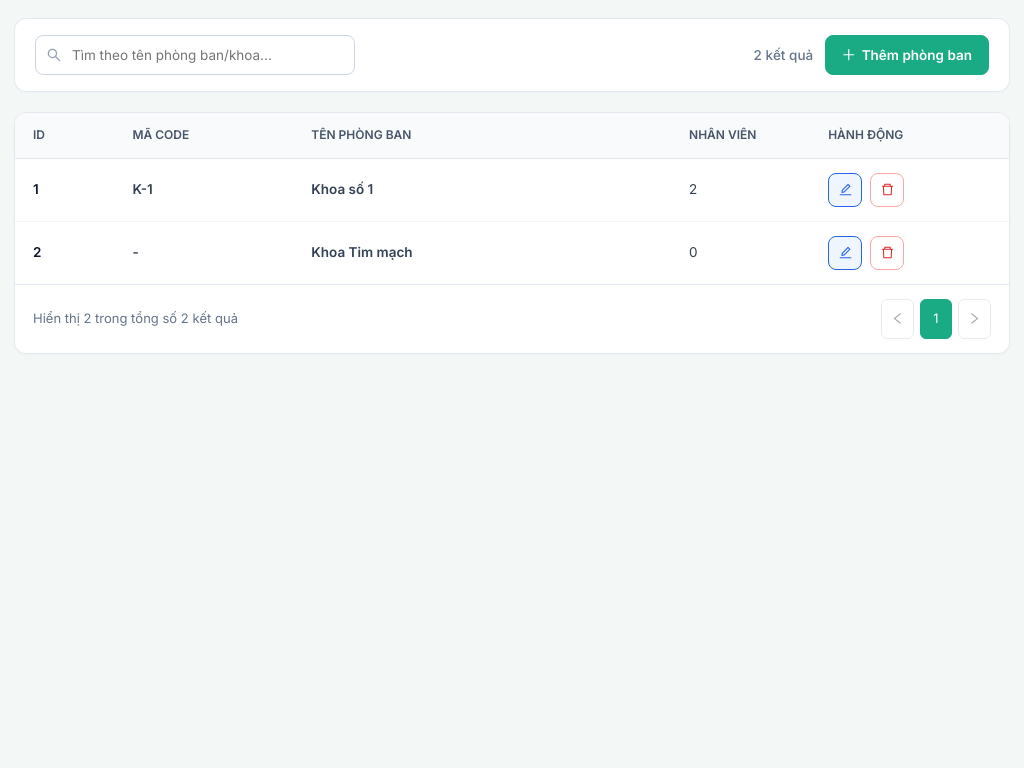
it: ReferenceDepartmentsListPage - tạo phòng ban › mở biểu mẫu trống
The width and height of the screenshot is (1024, 768).
Check: the text "Khoa số 1" is shown, box [311,181,373,197]
Click the button "Thêm phòng ban" at (907, 55), box [825,35,989,75]
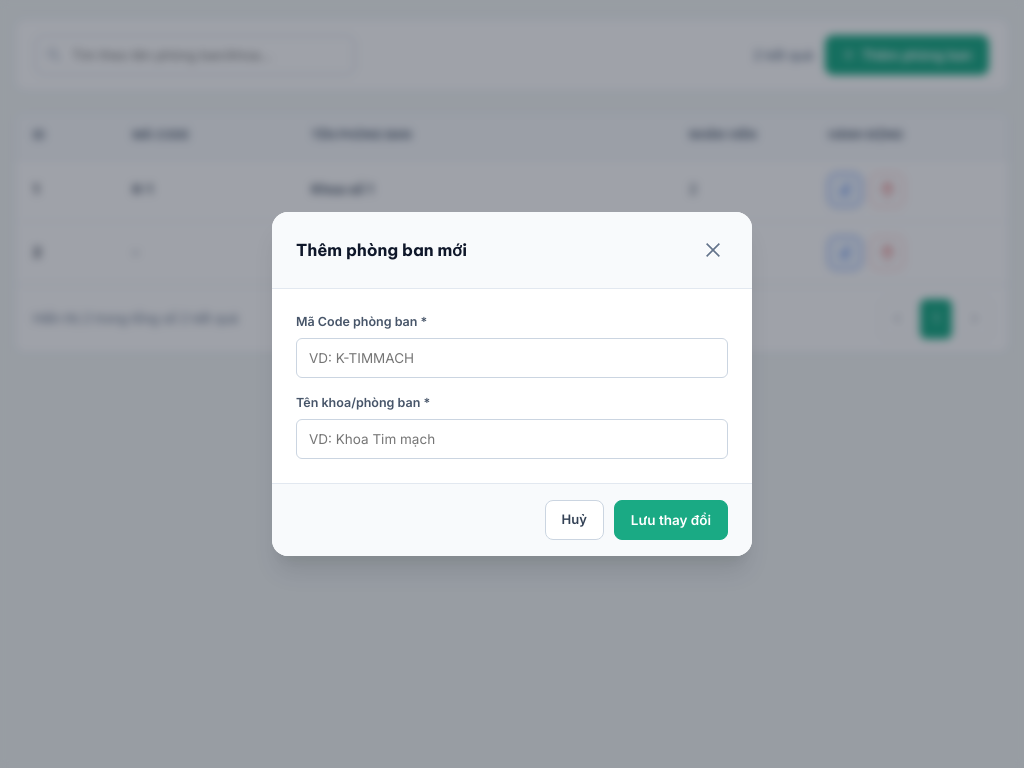
Check: the heading "Thêm phòng ban mới" is shown, box [296,238,467,262]
Check: the field with placeholder "VD: K-TIMMACH" is empty, box [296,338,728,378]
Check: the field with placeholder "VD: Khoa Tim mạch" is empty, box [296,419,728,459]
